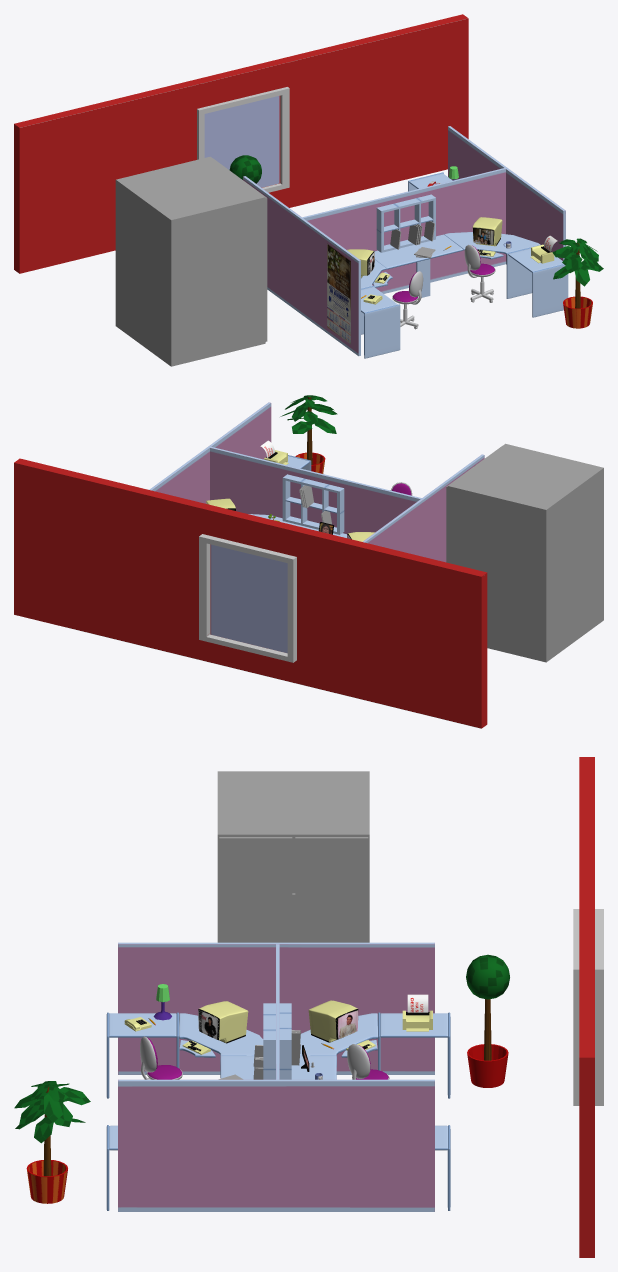
Rendered from officeDone.fbx.
The picture shows the model from 3 angles, top to bottom: view 1: azimuth 30°, elevation 25°; view 2: azimuth 150°, elevation 25°; view 3: azimuth 270°, elevation 25°; orthographic projection. The views are drawn at different scales.
Visible parts, largest first — view 1: pCube74, pCube72, pCube17, polySurface6, polySurface11, pCube39, pCube48, pCube49, pCube1, polySurface28, pPlane2; view 2: pCube74, pCube72, pCube17, pCube52, polySurface11; view 3: pCube17, pCube72, pCube74, pCube67, pCube68, polySurface6, polySurface10, polySurface11, polySurface28, pCube34, pCube36, pPlane3 (+4 smaller).
Boxes of the visible parts, x1,y1,x2,y2 form: pCube74: [14, 14, 468, 273]; pCube72: [115, 156, 265, 366]; pCube17: [243, 126, 565, 356]; polySurface6: [361, 232, 568, 358]; polySurface11: [552, 238, 603, 328]; pCube39: [376, 194, 435, 252]; pCube48: [464, 244, 495, 302]; pCube49: [392, 271, 423, 329]; pCube1: [472, 217, 502, 246]; polySurface28: [229, 155, 261, 183]; pPlane2: [530, 235, 557, 263]; pCube74: [14, 458, 487, 728]; pCube72: [447, 443, 603, 662]; pCube17: [149, 402, 484, 562]; pCube52: [282, 474, 344, 534]; polySurface11: [280, 395, 337, 473]; pCube17: [118, 942, 434, 1211]; pCube72: [217, 771, 369, 942]; pCube74: [573, 757, 603, 1257]; pCube67: [295, 837, 368, 942]; pCube68: [219, 837, 292, 942]; polySurface6: [106, 1012, 263, 1210]; polySurface10: [291, 1012, 450, 1210]; polySurface11: [14, 1081, 90, 1203]; polySurface28: [466, 954, 509, 1087]; pCube34: [198, 1001, 248, 1043]; pCube36: [308, 1000, 358, 1042]; pPlane3: [402, 994, 432, 1031].
Bounding box in the file's own units: 34.28 × 10.74 × 28.43.
